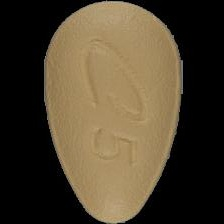55154-1830: (0, 0, 224, 224)
